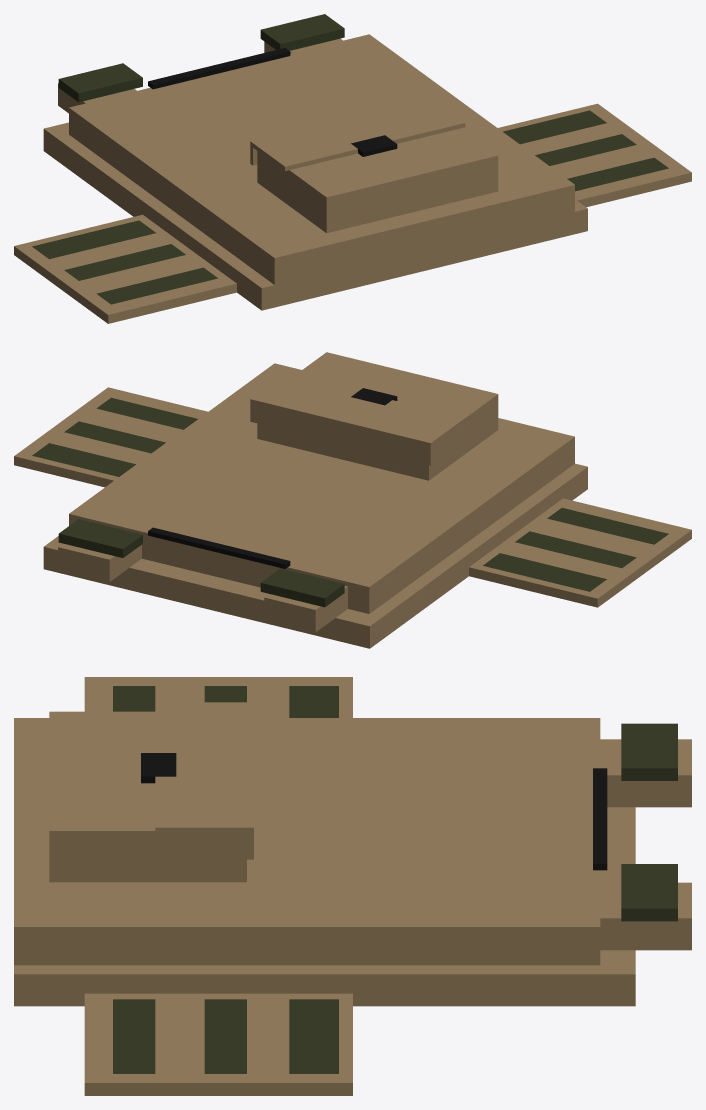
File: light_plate_carrier_pouch.glb
3 renders of one model, top to bottom at view 1: azimuth 30°, elevation 25°; view 2: azimuth 150°, elevation 25°; view 3: azimuth 270°, elevation 25°, orthographic. The views are drawn at different scales.
Visible parts, largest first — view 1: light_plate_carrier_pouch:compound; view 2: light_plate_carrier_pouch:compound; view 3: light_plate_carrier_pouch:compound.
Boxes of the visible parts, x1,y1,x2,y2 form: light_plate_carrier_pouch:compound: (14,14,691,323); light_plate_carrier_pouch:compound: (14,352,691,648); light_plate_carrier_pouch:compound: (14,677,691,1095).
Bounding box in the file's own units: 0.544 × 0.08 × 0.384.
